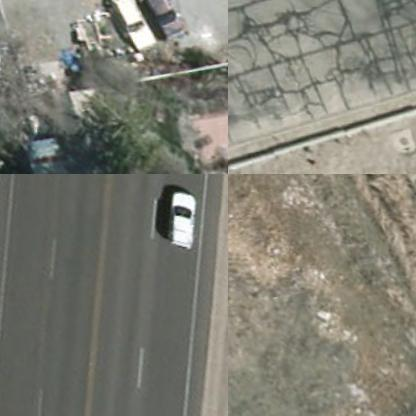car: (148, 179, 212, 252), (102, 0, 157, 58), (129, 0, 189, 46)
